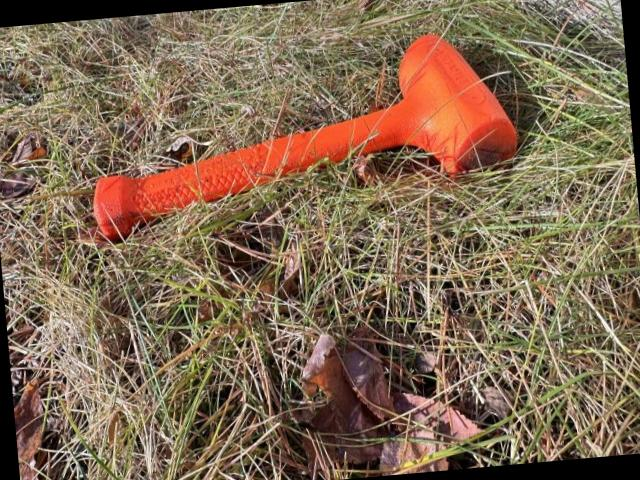hammer: (80, 25, 526, 240)
